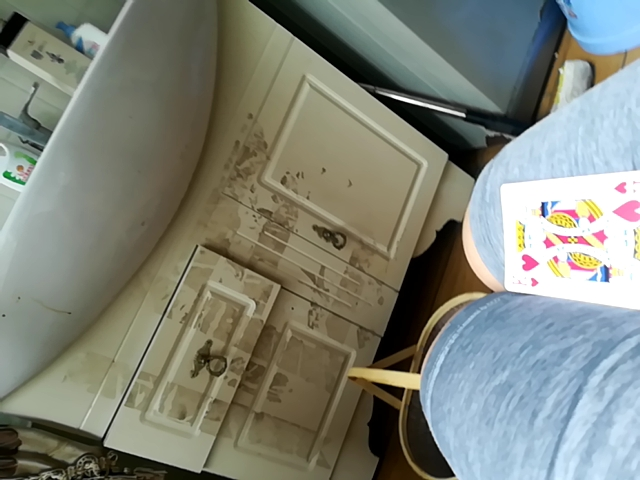hx k: (483, 165, 638, 320)
